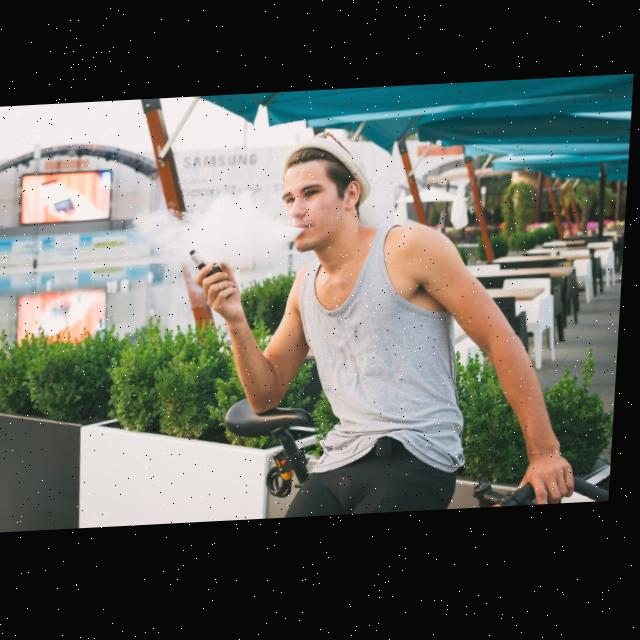vape: (191, 250, 227, 280)
